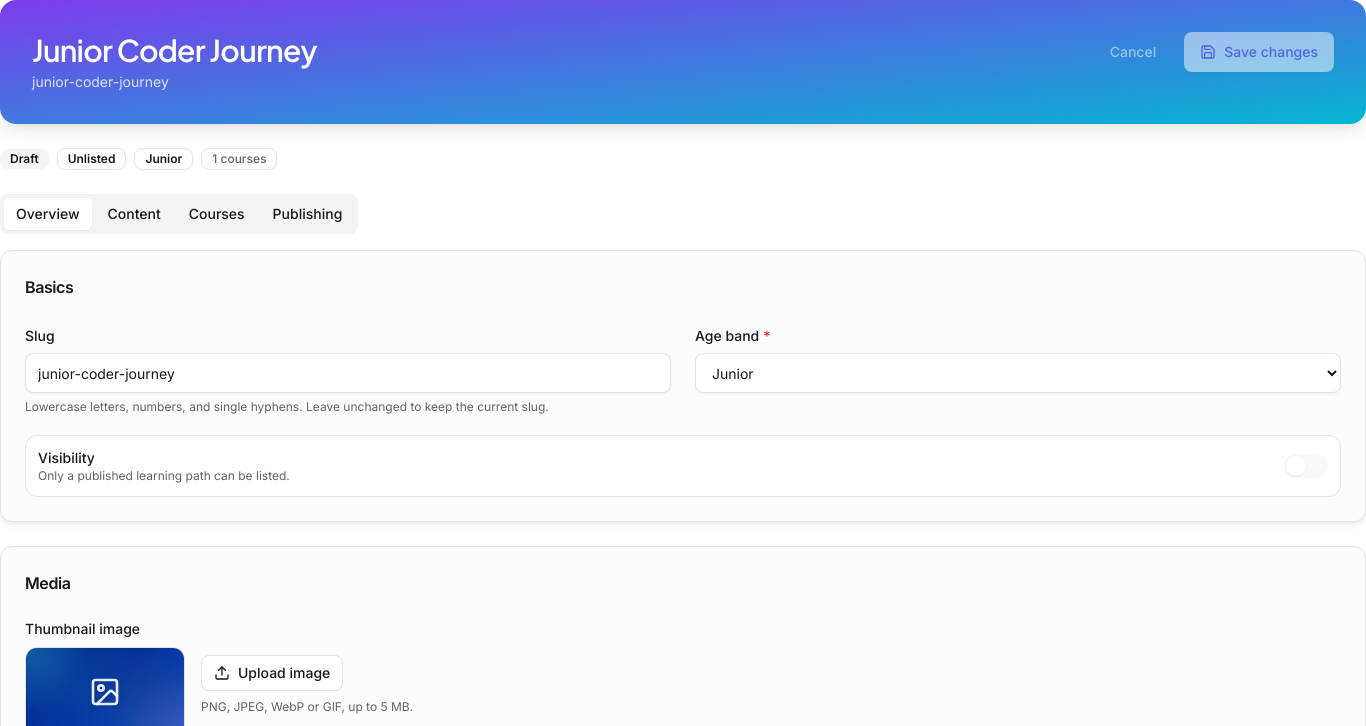
it: LearningPathEditor › enables Save on edit and submits the update with the current rowVersion
Select "Explorer" in the dropdown labelled "Age band" at (1018, 373), box [695,353,1341,393]
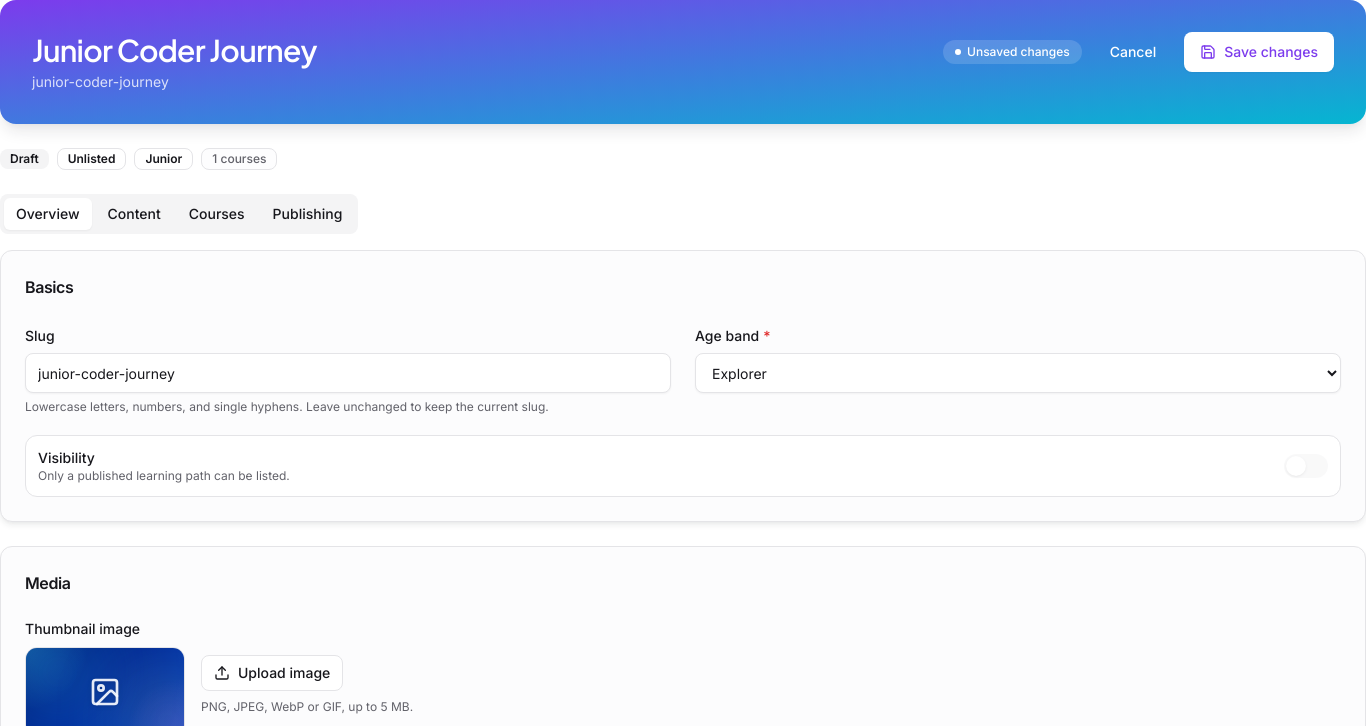
Now the button "Save changes" is enabled
Click the button "Save changes".
click(1259, 52)  # box [1184,32,1334,72]
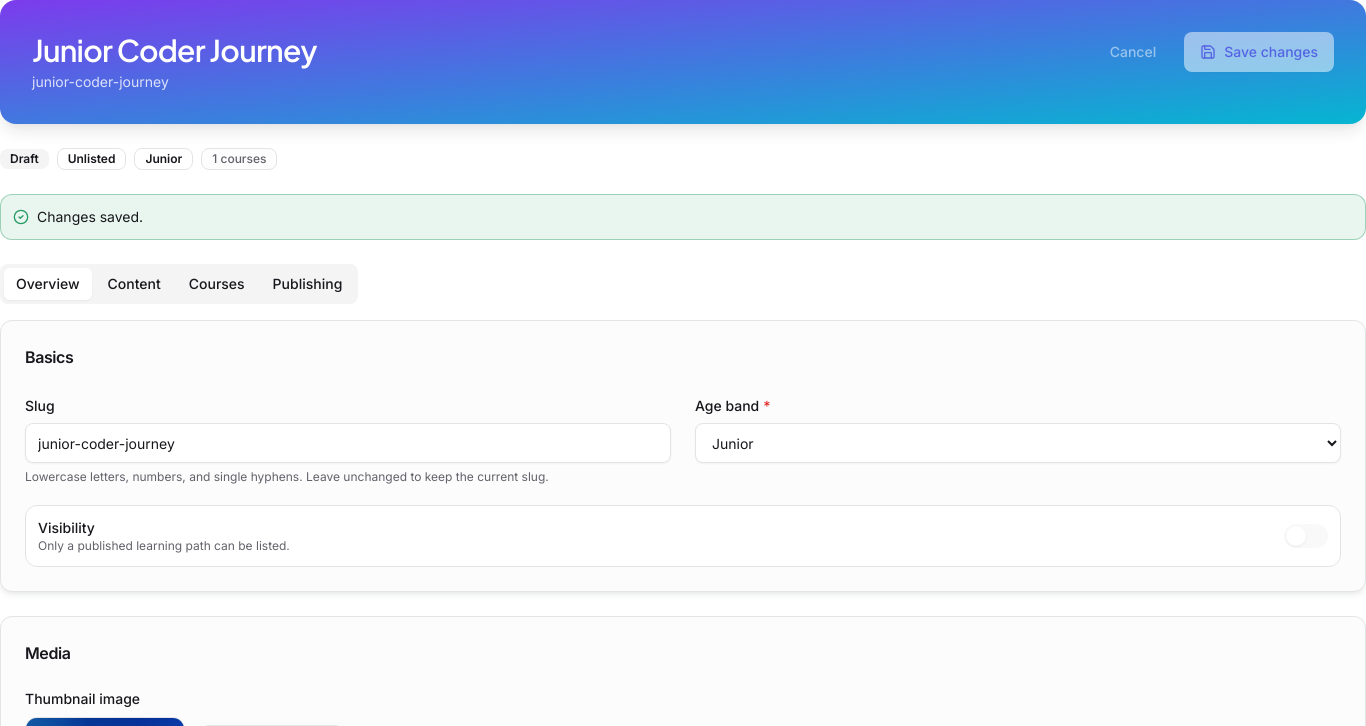
Now the text "Changes saved." is shown, box [0,194,1365,240]
